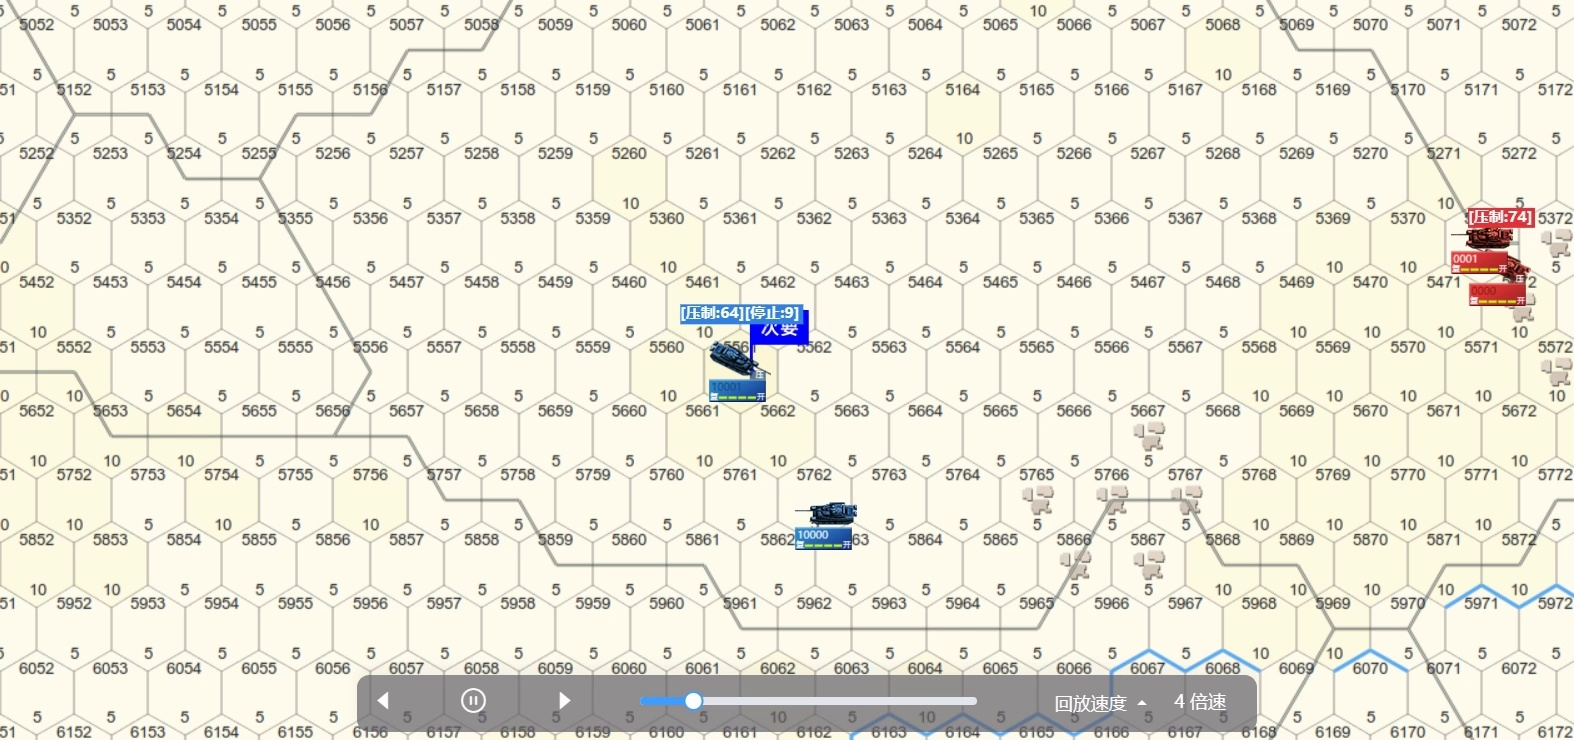blue_tank: (796, 499, 862, 546), (713, 346, 759, 398)
red_tank: (1460, 225, 1521, 265), (1477, 267, 1525, 305)
